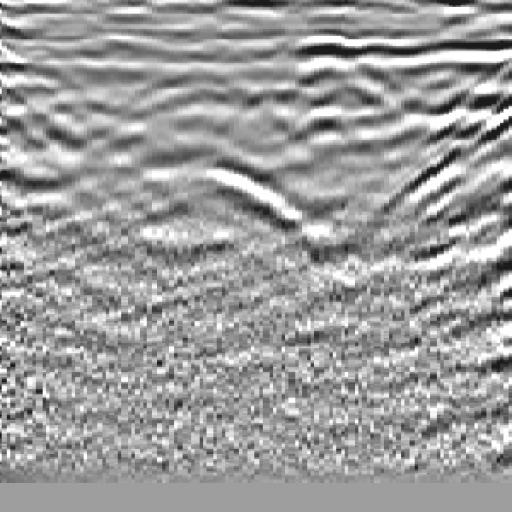metalic: (122, 27, 332, 288)
nonmetalic: (370, 28, 512, 301)
